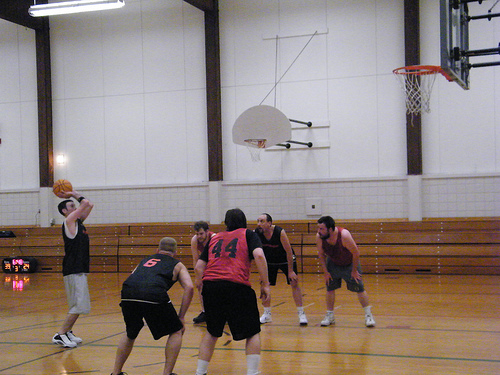basketball: (51, 178, 72, 198)
